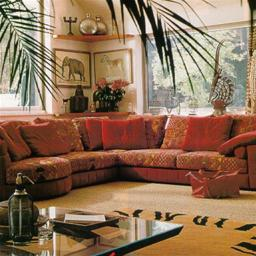Ventana: (145, 37, 250, 113), (2, 6, 47, 112)
